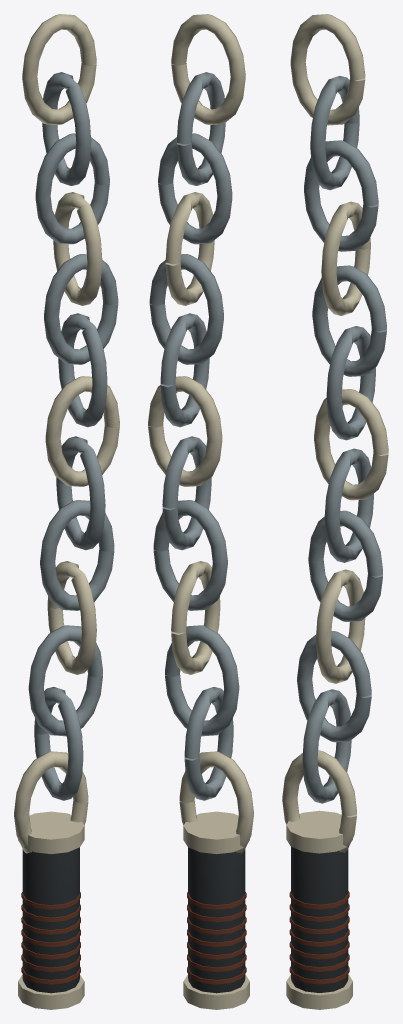
Rendered from chain_lod1.glb.
3 views of the same model, side by side, from view 1: azimuth 30°, elevation 25°; view 2: azimuth 150°, elevation 25°; view 3: azimuth 330°, elevation 25° (orthographic).
Parts seen in each view (by area): view 1: chain; view 2: chain; view 3: chain.
Part boxes in pixels (x1,y1,x2,y2): chain: (14,14,119,1009); chain: (148,14,253,1009); chain: (282,14,388,1009).
Bounding box in the file's own units: 0.1067 × 0.9435 × 0.0729.
